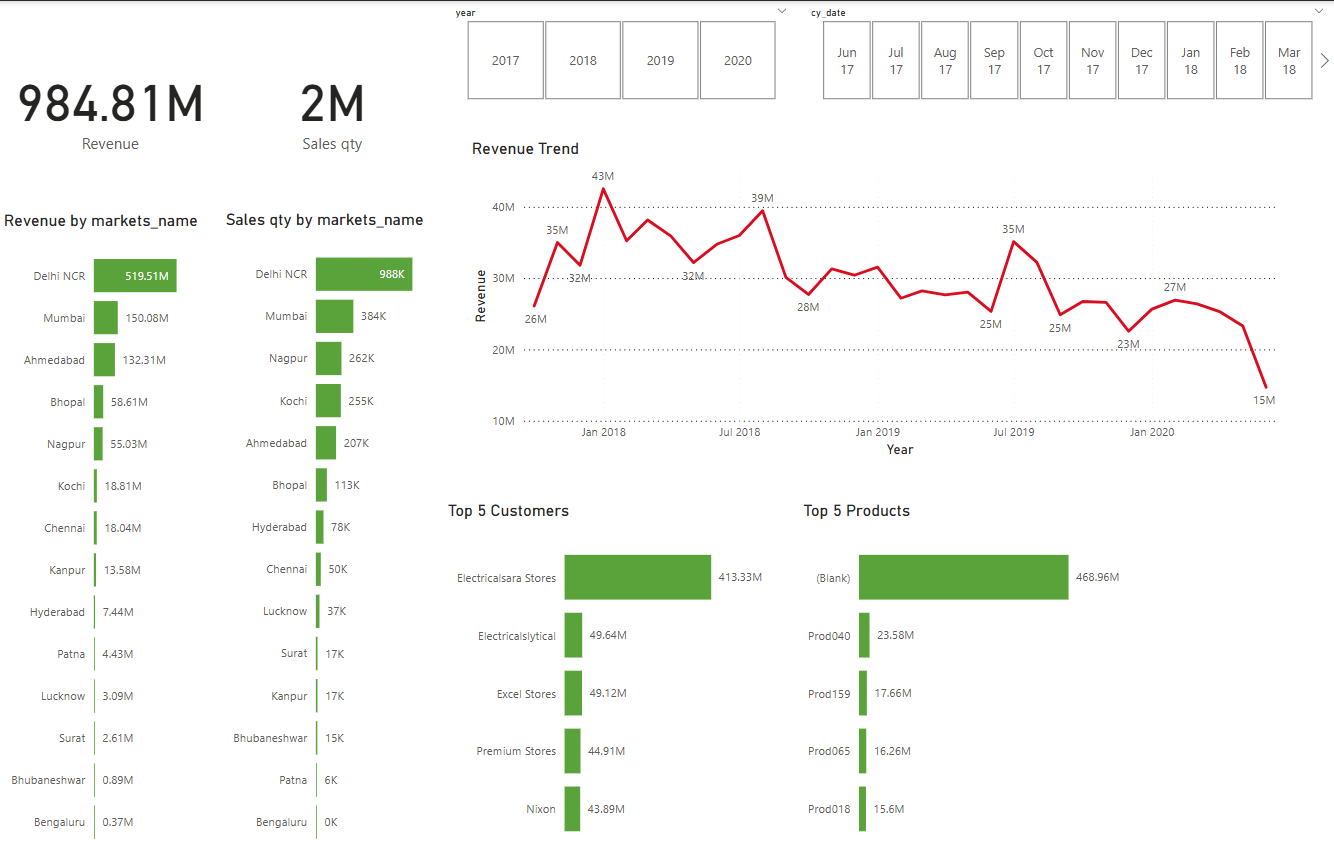

What the dashboard file says about the page in this screenshot:
{"tool":"powerbi","page":{"name":"Page 1","canvas":[1400,900],"ordinal":0},"visuals":[{"type":"card","fields":{"Values":["BaseMeasures.Revenue"]},"box":[0,0,232.5,219.9],"z":0},{"type":"card","fields":{"Values":["BaseMeasures.Sales qty"]},"box":[232.5,0,232.5,219.9],"z":1000},{"type":"barChart","fields":{"Y":["BaseMeasures.Revenue"],"Category":["sales markets.markets_name","sales customers.custmer_name"]},"box":[0,219.9,232.5,680.1],"z":2000},{"type":"barChart","fields":{"Y":["BaseMeasures.Sales qty"],"Category":["sales markets.markets_name"]},"box":[232.5,218.3,232.5,681.7],"z":3000},{"type":"slicer","fields":{"Values":["sales date.year"]},"box":[464.9,0,372.3,109.9],"z":4000},{"type":"slicer","fields":{"Values":["sales date.cy_date"]},"box":[837.2,0,562.3,109.9],"z":5000},{"type":"barChart","title":"Top 5 Customers","fields":{"Y":["BaseMeasures.Revenue"],"Category":["sales customers.custmer_name"]},"box":[464.9,523,342.4,377],"z":6000},{"type":"barChart","title":"Top 5 Products","fields":{"Y":["BaseMeasures.Revenue"],"Category":["sales products.product_code"]},"box":[837.2,523,342.4,377],"z":7000},{"type":"lineChart","title":"Revenue Trend","fields":{"Y":["BaseMeasures.Revenue"],"Category":["sales date.cy_date.Variation.Date Hierarchy.Year","sales date.cy_date.Variation.Date Hierarchy.Quarter","sales date.cy_date.Variation.Date Hierarchy.Month","sales date.cy_date.Variation.Date Hierarchy.Day"]},"box":[490.1,144.5,865.5,337.7],"z":8000}]}

Visuals, with their boxes in screenshot pixels (x1, y1, x2, y2), scaled from the page's 1400x900 canvas onto the 1334x860 screenshot:
card - BaseMeasures.Revenue: [left=0, top=0, right=222, bottom=210]
card - BaseMeasures.Sales qty: [left=222, top=0, right=443, bottom=210]
barChart - BaseMeasures.Revenue x sales markets.markets_name: [left=0, top=210, right=222, bottom=859]
barChart - BaseMeasures.Sales qty x sales markets.markets_name: [left=222, top=209, right=443, bottom=859]
slicer - sales date.year: [left=443, top=0, right=798, bottom=105]
slicer - sales date.cy_date: [left=798, top=0, right=1333, bottom=105]
"Top 5 Customers" barChart: [left=443, top=500, right=769, bottom=859]
"Top 5 Products" barChart: [left=798, top=500, right=1124, bottom=859]
"Revenue Trend" lineChart: [left=467, top=138, right=1292, bottom=461]
